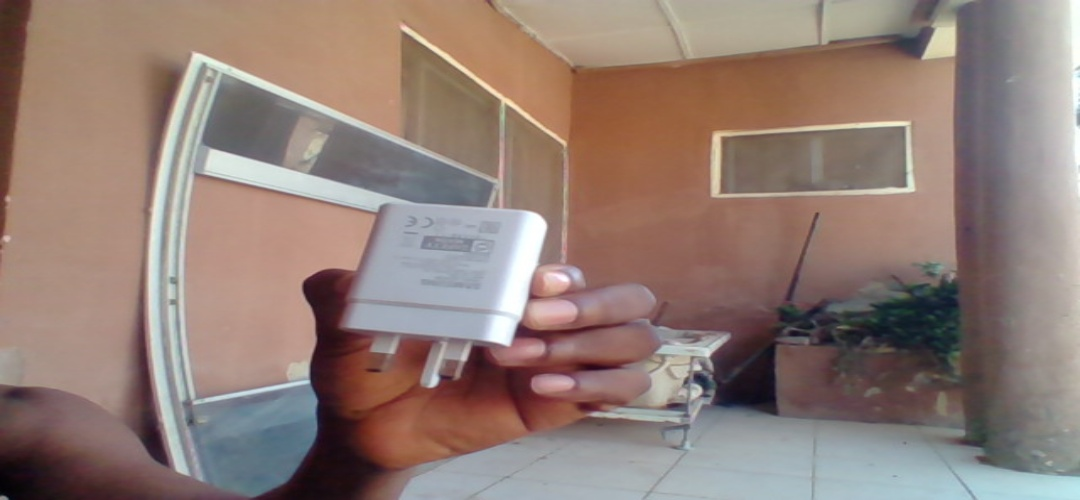phone_charger: (337, 193, 546, 393)
